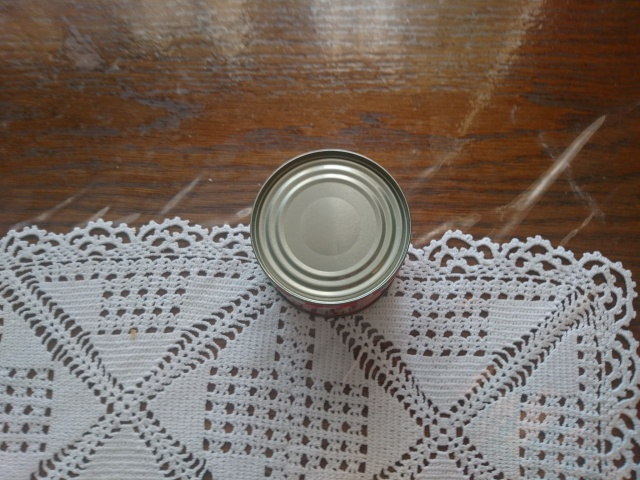Podravka Luncheon Meat 150g: (245, 145, 415, 322)
